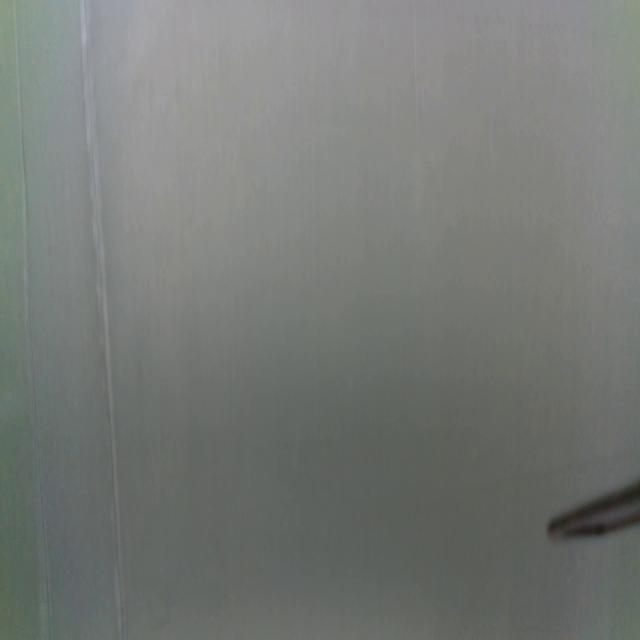crease: (82, 0, 124, 640), (14, 1, 52, 640), (411, 0, 421, 157)
